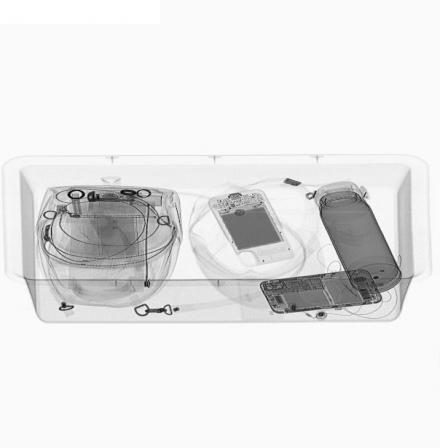Powerbank: (207, 189, 299, 269)
